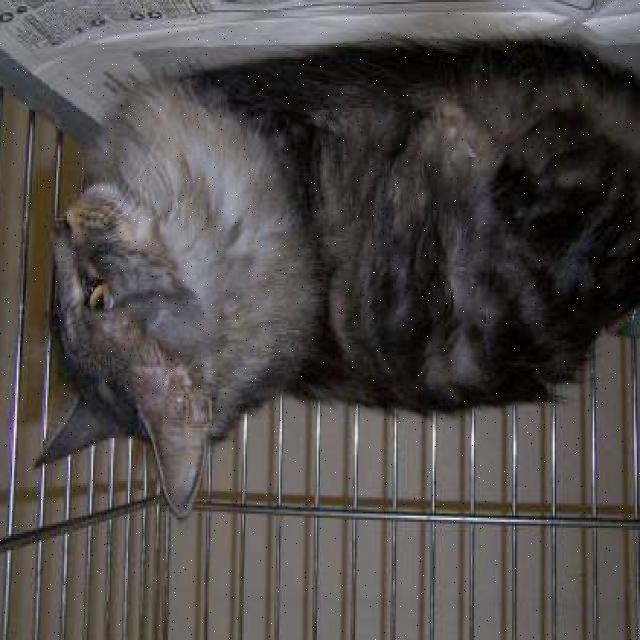Cat: (28, 160, 241, 508)
